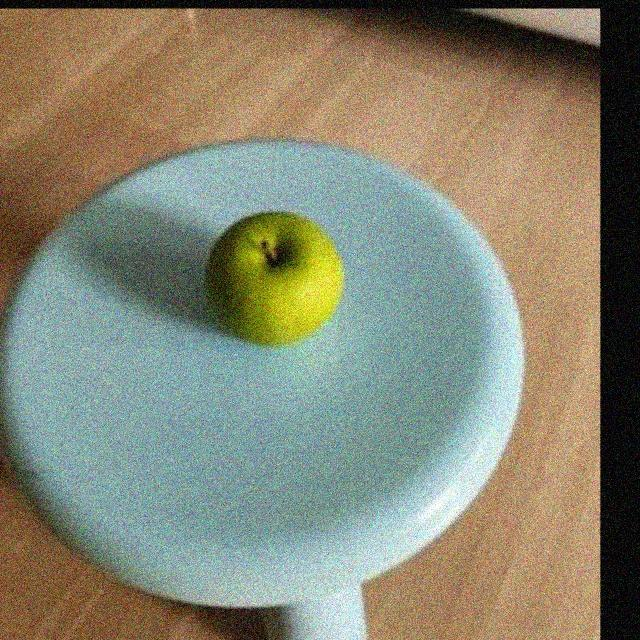green apple: (206, 209, 345, 340)
